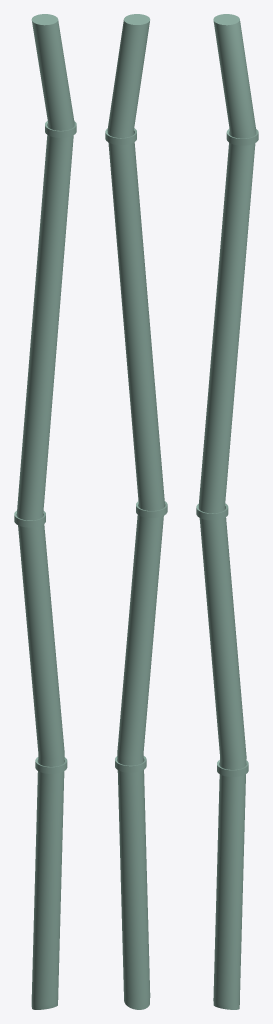
Rendered from Drain Pipe bent 02.fbx.
The picture shows the model from 3 angles, left to right: view 1: azimuth 30°, elevation 25°; view 2: azimuth 210°, elevation 25°; view 3: azimuth 330°, elevation 25°; orthographic projection.
Parts seen in each view (by area): view 1: Cylinder.004; view 2: Cylinder.004; view 3: Cylinder.004.
Boxes of the visible parts, box(x1,y1,x2,y2) form: Cylinder.004: box(14, 14, 76, 1009); Cylinder.004: box(105, 14, 167, 1009); Cylinder.004: box(196, 14, 258, 1009).
Bounding box in the file's own units: 52.22 × 850 × 25.35.
